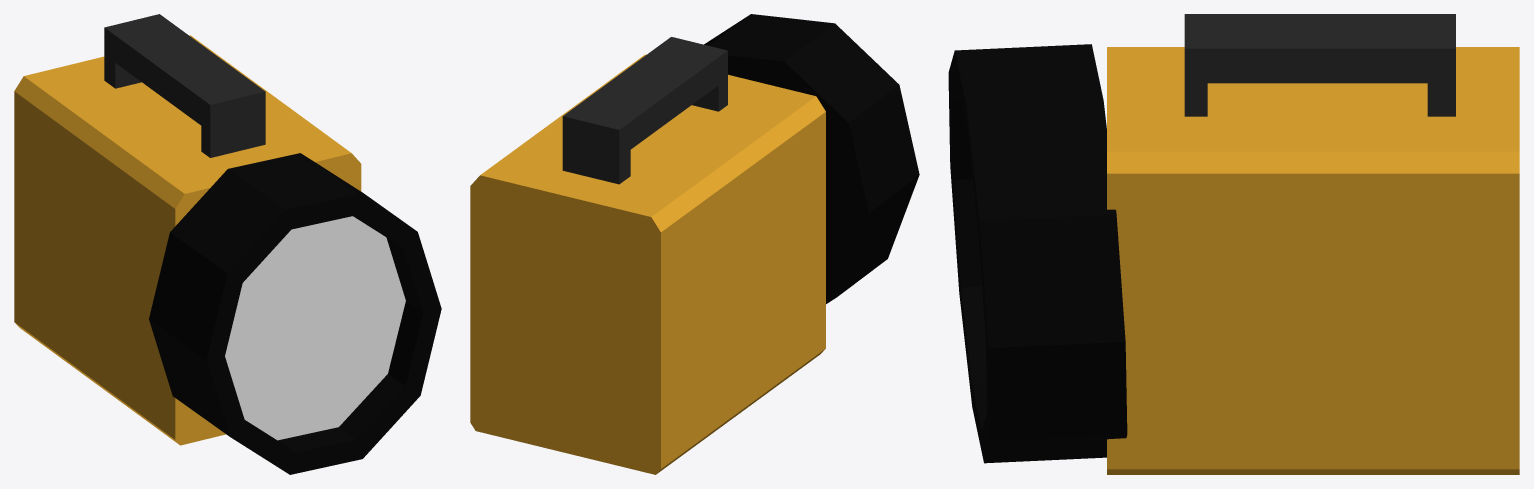
Rendered from flashlight.fbx.
3 renders of one model, left to right at view 1: azimuth 30°, elevation 25°; view 2: azimuth 150°, elevation 25°; view 3: azimuth 270°, elevation 25°, orthographic. The views are drawn at different scales.
Parts seen in each view (by area): view 1: Cube, Cylinder, Cylinder.001, Cube.001; view 2: Cube, Cylinder, Cube.001; view 3: Cube, Cylinder, Cube.001.
Boxes of the visible parts, x1,y1,x2,y2 form: Cube: (14, 35, 361, 445); Cylinder: (149, 153, 441, 474); Cylinder.001: (225, 216, 405, 440); Cube.001: (104, 14, 265, 157); Cube: (470, 54, 825, 474); Cylinder: (704, 14, 919, 303); Cube.001: (562, 37, 727, 184); Cube: (1107, 47, 1519, 474); Cylinder: (948, 44, 1127, 463); Cube.001: (1184, 14, 1455, 116).
Bounding box in the file's own units: 13.68 × 16.18 × 20.77.
